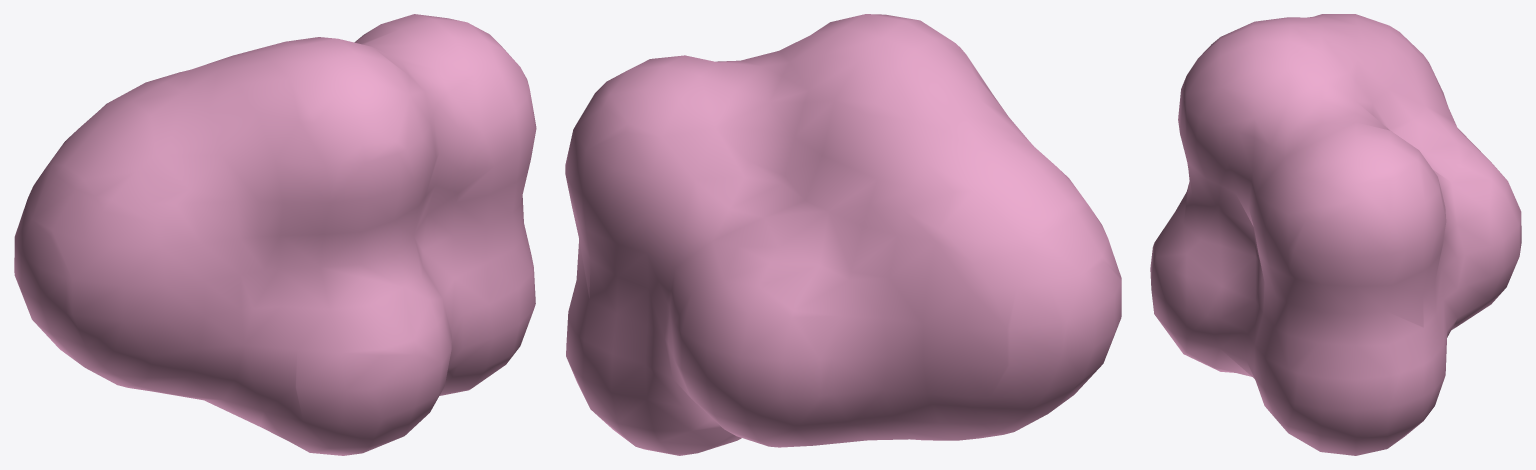
Rendered from chewedGum.fbx.
3 views of the same model, side by side, from view 1: azimuth 30°, elevation 25°; view 2: azimuth 150°, elevation 25°; view 3: azimuth 270°, elevation 25° (orthographic). The views are drawn at different scales.
Parts seen in each view (by area): view 1: Chewed Gum; view 2: Chewed Gum; view 3: Chewed Gum.
Part boxes in pixels (box(x1,y1,x2,y2)): Chewed Gum: box(14, 14, 536, 455); Chewed Gum: box(565, 14, 1121, 455); Chewed Gum: box(1150, 14, 1521, 455).
Size of the model in its own units: 39.88 by 31.06 by 29.55.
